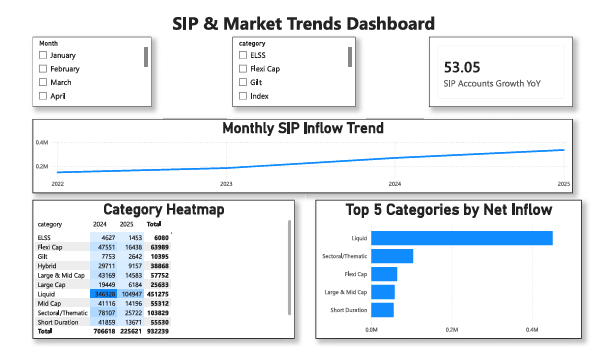

What the dashboard file says about the page in this screenshot:
{"tool":"powerbi","page":{"name":"SIP & Market Trends","canvas":[1280,720],"ordinal":3},"visuals":[{"type":"textbox","box":[10,0,1270,60],"z":0},{"type":"lineChart","title":"Monthly SIP Inflow Trend","fields":{"Category":["04_monthly_sip_inflows.month.Variation.Date Hierarchy.Year","04_monthly_sip_inflows.month.Variation.Date Hierarchy.Quarter","04_monthly_sip_inflows.month.Variation.Date Hierarchy.Month","04_monthly_sip_inflows.month.Variation.Date Hierarchy.Day"],"Y":["Sum(04_monthly_sip_inflows.sip_inflow_crore)"]},"box":[66.7,235,1151.7,158.3],"z":1},{"type":"pivotTable","title":"Category Heatmap","fields":{"Rows":["05_category_inflows.category"],"Columns":["05_category_inflows.month.Variation.Date Hierarchy.Year","05_category_inflows.month.Variation.Date Hierarchy.Quarter","05_category_inflows.month.Variation.Date Hierarchy.Month","05_category_inflows.month.Variation.Date Hierarchy.Day"],"Values":["Sum(05_category_inflows.net_inflow_crore)"]},"box":[66.7,408.3,558.3,295],"z":2},{"type":"slicer","fields":{"Values":["clean_transactions.transaction_date.Variation.Date Hierarchy.Month"]},"box":[66.7,60,253.3,150],"z":3},{"type":"slicer","fields":{"Values":["clean_performance.category"]},"box":[493.3,60,261.7,150],"z":4},{"type":"cardVisual","fields":{"Data":["Max(04_monthly_sip_inflows.yoy_growth_pct)"]},"box":[911.7,60,306.7,150],"z":5},{"type":"clusteredBarChart","title":"Top 5 Categories by Net Inflow","fields":{"Category":["05_category_inflows.category"],"Y":["Sum(05_category_inflows.net_inflow_crore)"]},"box":[670,408.3,566.7,295],"z":6}]}

Visuals, with their boxes on the page's 1280x720 design canvas (x1, y1, x2, y2). These are canvas units, not pixel positions in the 601x364 screenshot, which may show the page scaled, cropped or inside an application window:
textbox: 10:0:1280:60
"Monthly SIP Inflow Trend" lineChart: 67:235:1218:393
"Category Heatmap" pivotTable: 67:408:625:703
slicer - clean_transactions.transaction_date.Variation.Date Hierarchy.Month: 67:60:320:210
slicer - clean_performance.category: 493:60:755:210
cardVisual - Max(04_monthly_sip_inflows.yoy_growth_pct): 912:60:1218:210
"Top 5 Categories by Net Inflow" clusteredBarChart: 670:408:1237:703
